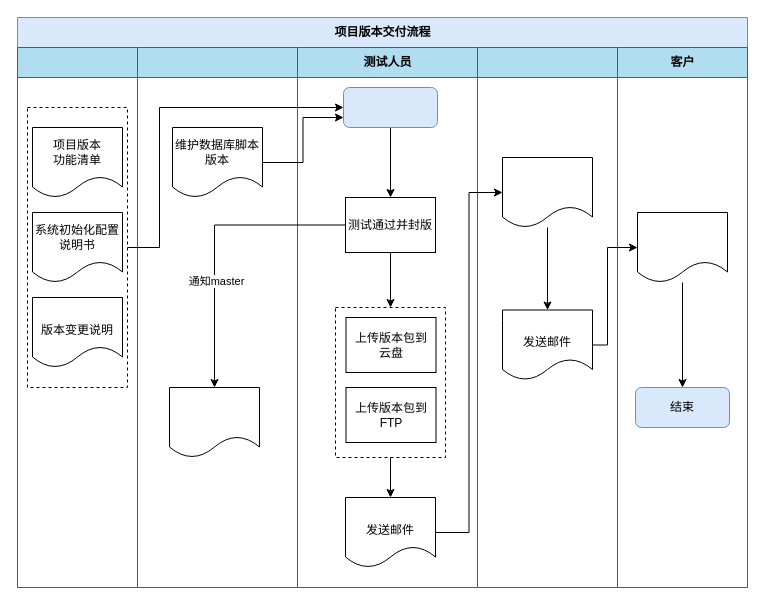
Image size: 765x605. Some labels were removed from this diagram. The shapes that lost their labels are listed below. From the top down, each one's box as (x1, y1, x2, y2) in pixels, then its label:
(342, 86, 438, 128): 开始
(502, 156, 592, 228): 接收邮件，下载版本包
(636, 212, 728, 282): 接收邮件，接收版本包
(16, 46, 138, 588): PO
(136, 46, 298, 588): Master
(476, 46, 618, 588): 项目经理
(168, 386, 260, 458): 代码分支打tag
